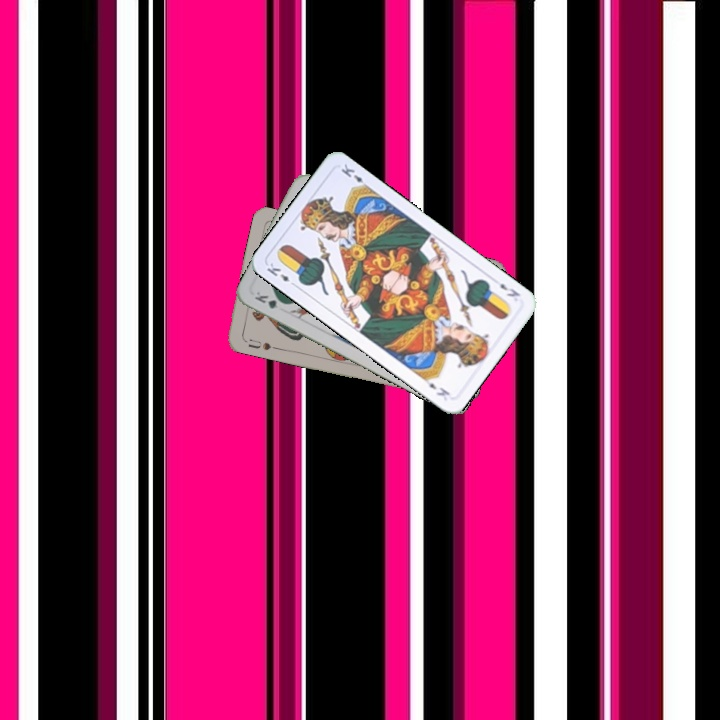EK: (263, 259, 299, 290), (496, 279, 523, 300)
GK: (250, 287, 290, 311)
SU: (244, 335, 279, 353)
